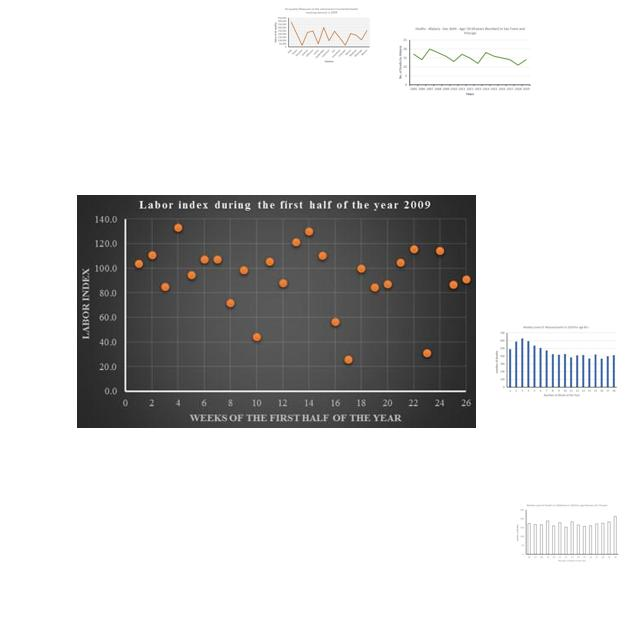Graph: (77, 195, 476, 428), (396, 25, 532, 99), (492, 323, 620, 400), (514, 502, 621, 565), (271, 6, 371, 64)
